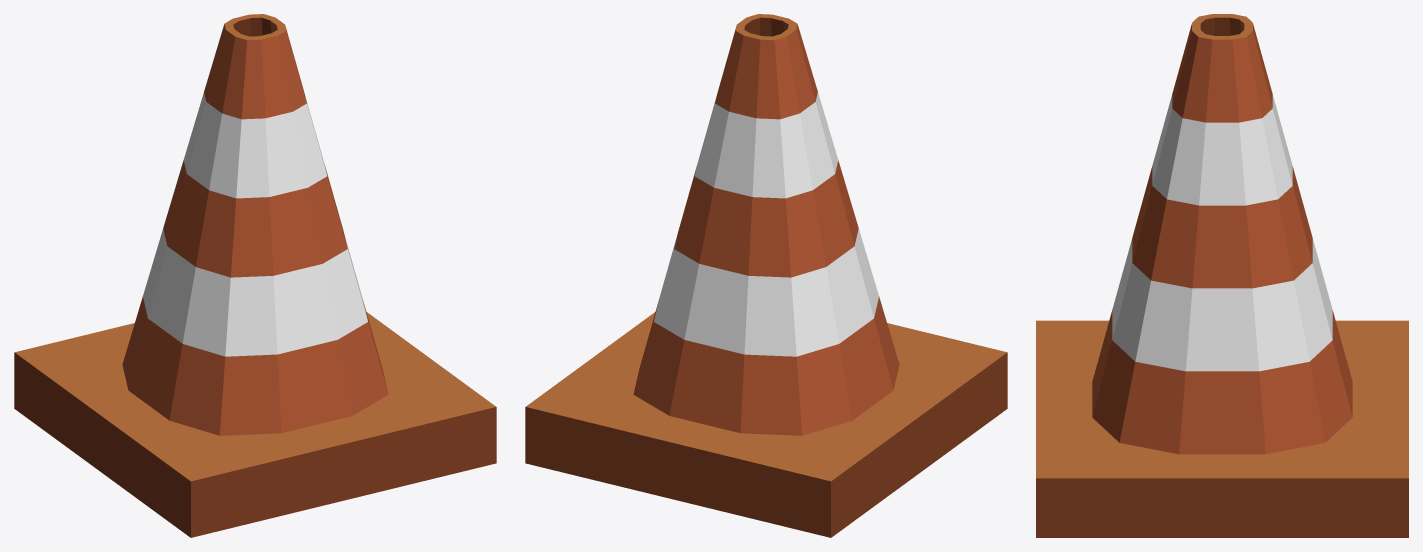
3 views of the same model, side by side, from view 1: azimuth 30°, elevation 25°; view 2: azimuth 150°, elevation 25°; view 3: azimuth 270°, elevation 25° (orthographic). The views are drawn at different scales.
Visible parts, largest first — view 1: Cone jalan.001; view 2: Cone jalan.001; view 3: Cone jalan.001.
Part boxes in pixels (x1=…): Cone jalan.001: x1=14, y1=14, x2=496, y2=537; Cone jalan.001: x1=525, y1=14, x2=1007, y2=537; Cone jalan.001: x1=1036, y1=14, x2=1408, y2=537.
Bounding box in the file's own units: 124 × 159 × 124.
